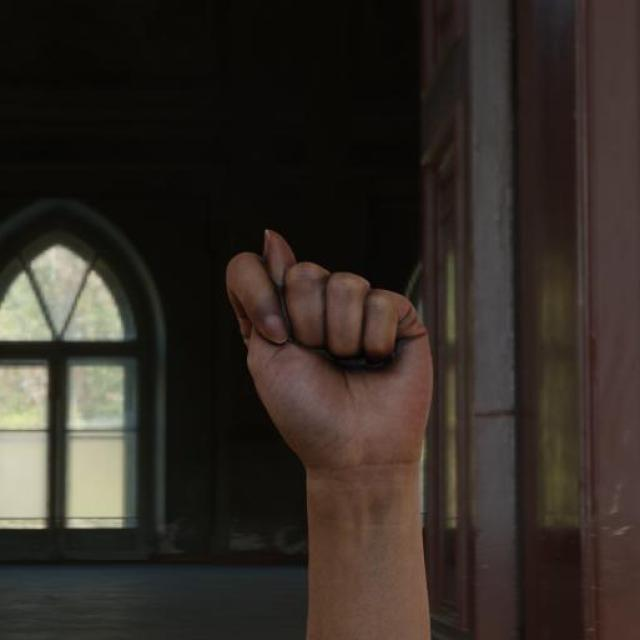T: (224, 225, 441, 474)
